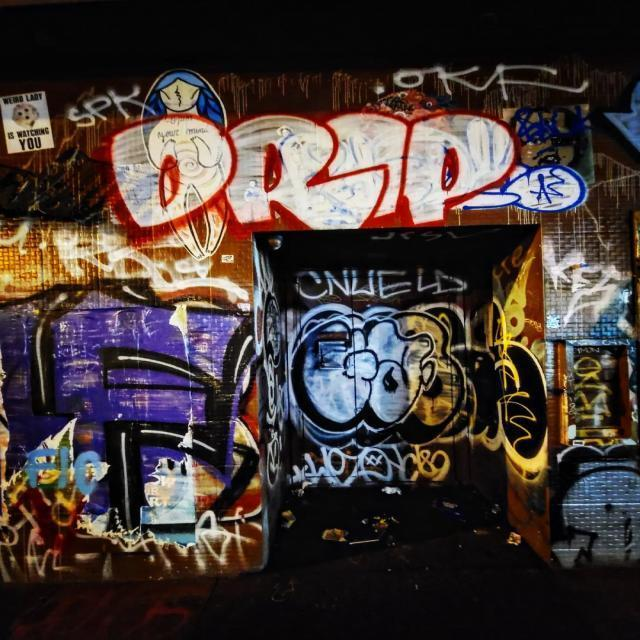-: (9, 295, 266, 525), (97, 104, 524, 234), (288, 300, 558, 484), (0, 220, 255, 310), (531, 234, 620, 347), (283, 438, 444, 492), (284, 260, 472, 306)
